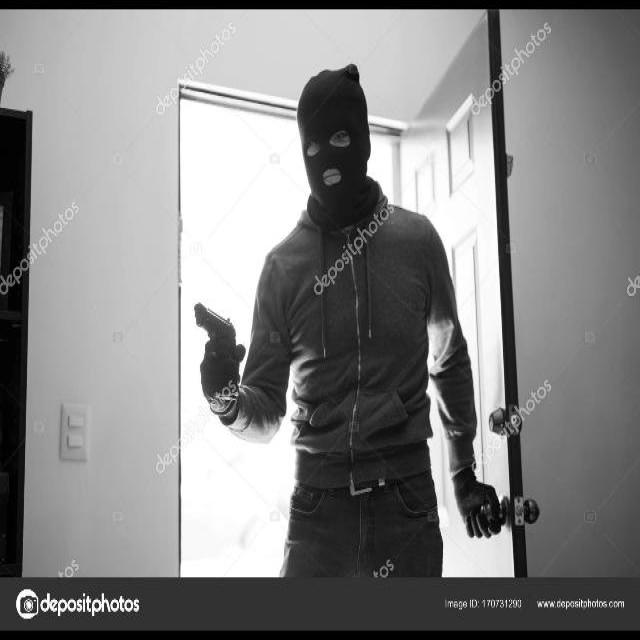6_pasamontana: (298, 63, 380, 233)
